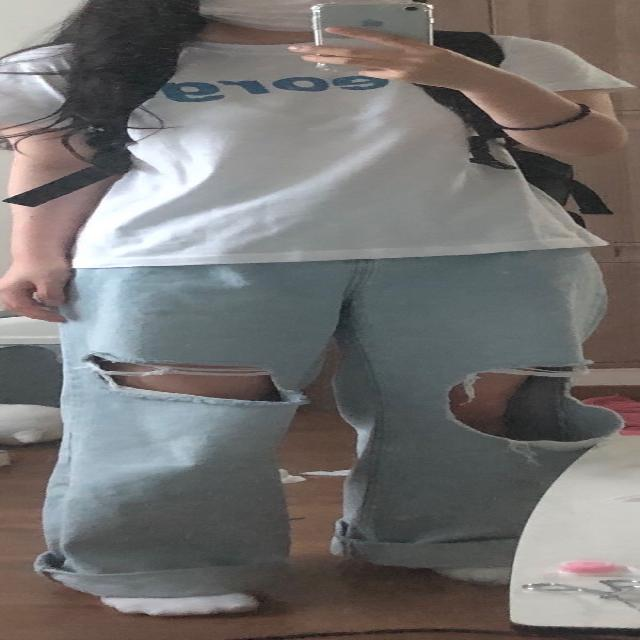denimpants: (43, 258, 618, 583)
shortsleeve: (9, 38, 619, 269)
